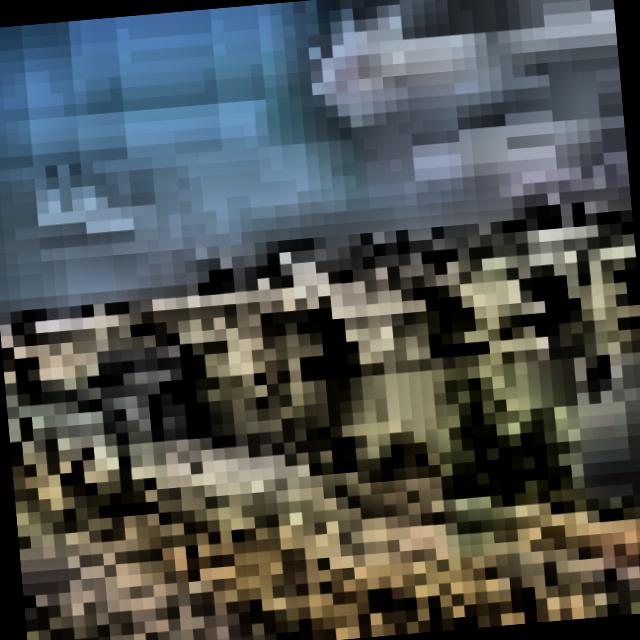stone bridge: (30, 248, 640, 408)
